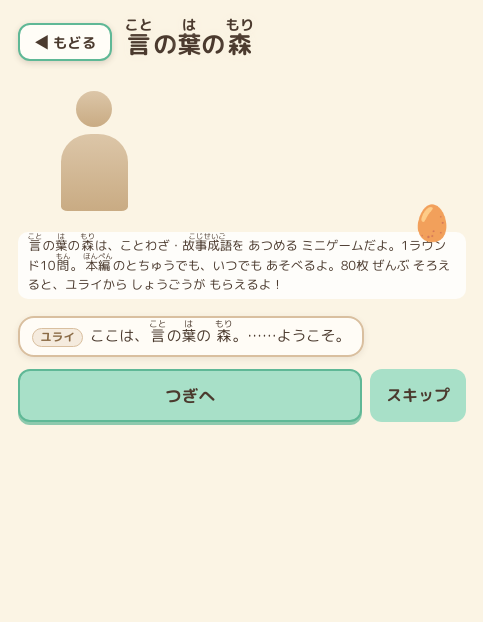
Test: 言の葉の森の画面: 場面台詞 › 入口 › 初回(見終えた記録がない・遊んだ記録もない): entry_first。タップで1行ずつ、ユライ→コト→ユライ→コト。終わるまで、範囲のボタンは出ない
The image size is (483, 622).
Expected: the element showing "ユライ ここは、 言 こと の 葉 は の 森 もり 。……ようこそ。 つぎへ スキップ" is shown, [18, 309, 466, 422]
Expected: the text "ユライ" is shown, [32, 328, 83, 347]
Step 1. Click the button "つぎへ" → (190, 396), box [18, 369, 362, 422]
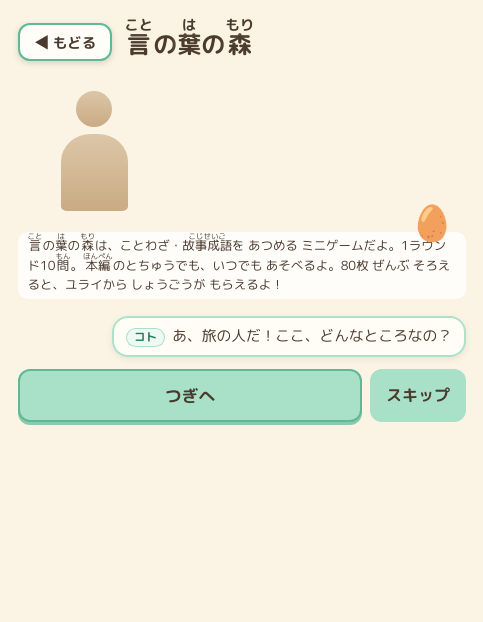
Now the text "コト" is shown, box [126, 328, 165, 347]
Step 2. Click the button "つぎへ" → (190, 396), box [18, 369, 362, 422]
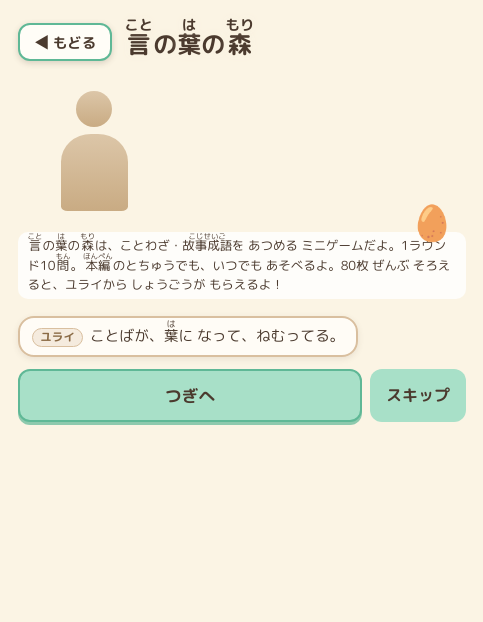
Now the text "ユライ" is shown, box [32, 328, 83, 347]
Step 3. Click the button "つぎへ" → (190, 396), box [18, 369, 362, 422]
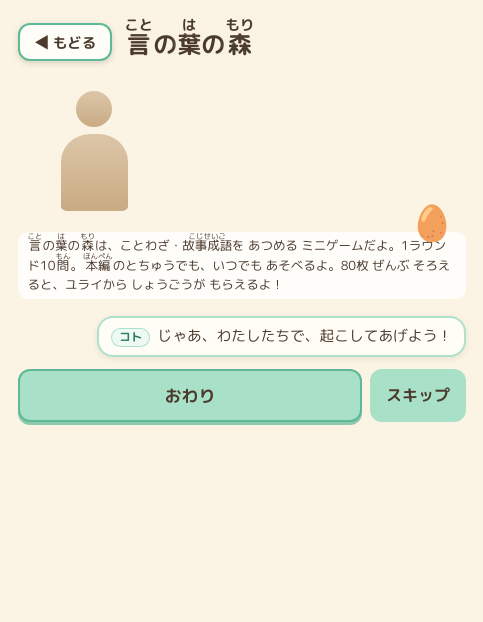
Now the text "コト" is shown, box [111, 328, 150, 347]
Step 4. Click the button "おわり" → (190, 396), box [18, 369, 362, 422]
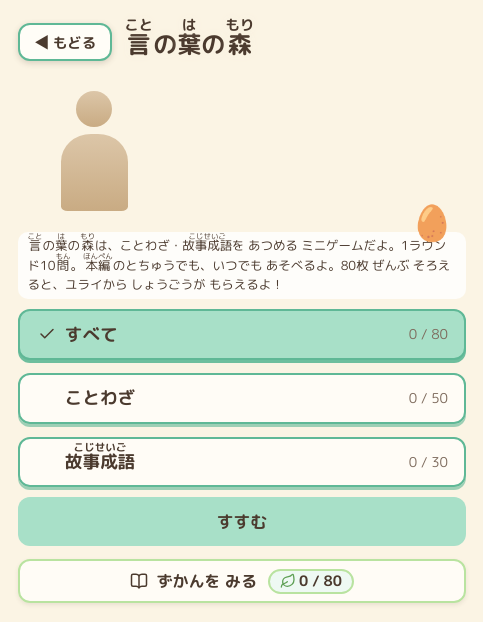
Now the list with class "kotonoha-scope-list" is shown, box [18, 309, 466, 487]
